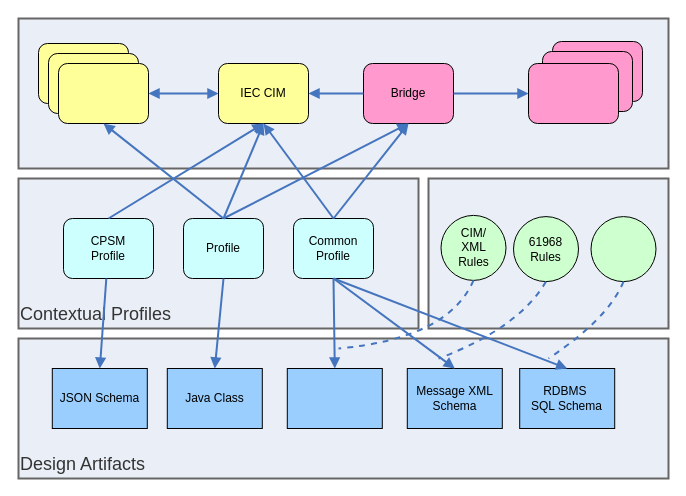
The diagram is 686 pixels wide and 496 high, and some of its shapes have lost their labels. The shapes that lost their labels are listed below. From the top down, each one's box as (x1, y1, x2, y2) in pixels, then its label:
(58, 62, 148, 124): CIM Extensions
(17, 17, 669, 169): Information Models
(528, 62, 618, 124): Foreign
(427, 177, 669, 329): Artifact Assembly
(590, 216, 656, 282): Project Rules
(286, 368, 382, 428): CIM/XML RDF Schema
